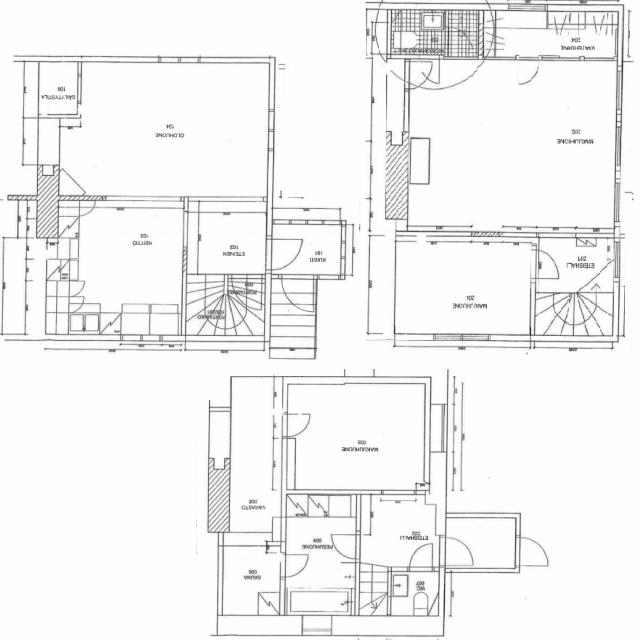door: (282, 274, 314, 312), (232, 274, 262, 310), (270, 239, 304, 270), (440, 538, 474, 566), (531, 250, 564, 278), (404, 61, 436, 89), (461, 486, 488, 518), (445, 27, 474, 53), (53, 74, 81, 98), (332, 536, 360, 559), (281, 554, 308, 577), (281, 414, 308, 437), (410, 545, 433, 572), (518, 54, 540, 80), (418, 54, 439, 80)
